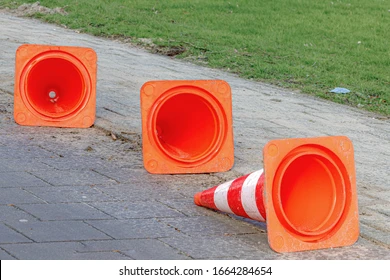cones: (176, 134, 370, 253), (13, 43, 103, 130)
